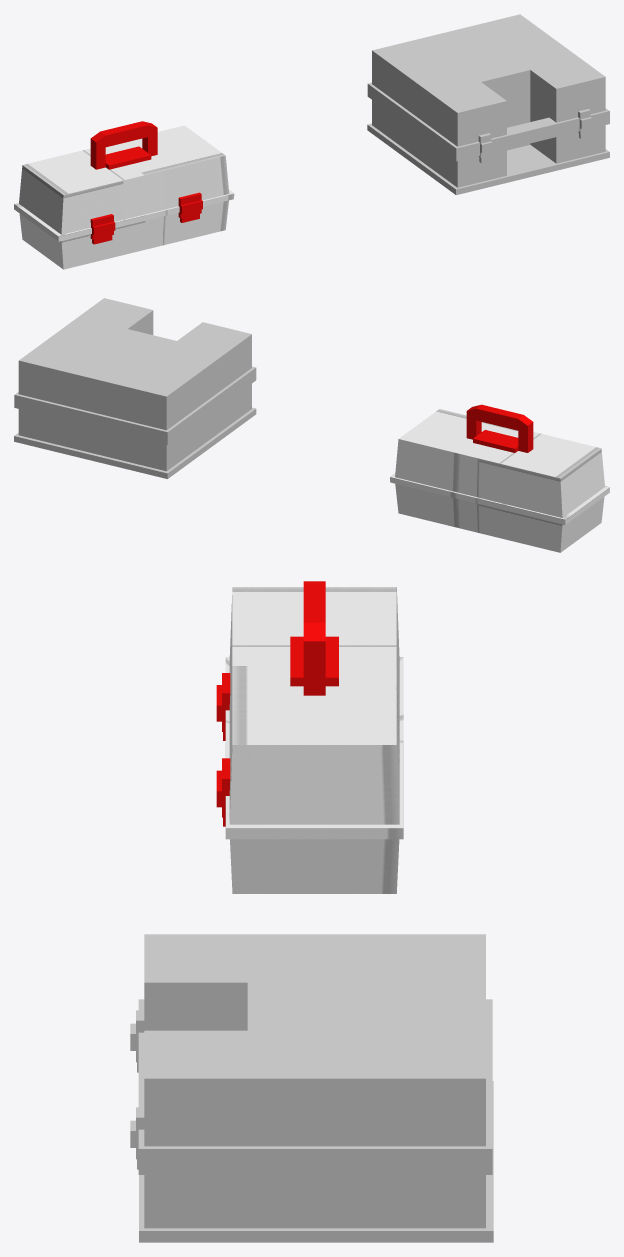
Rendered from Aplicado_KitDePrimeirosSocorros.untitled.fbx.
3 renders of one model, top to bottom at view 1: azimuth 30°, elevation 25°; view 2: azimuth 150°, elevation 25°; view 3: azimuth 270°, elevation 25°, orthographic. The views are drawn at different scales.
Parts seen in each view (by area): view 1: KitMedico, AO; view 2: KitMedico, AO; view 3: KitMedico, AO.
Part boxes in pixels (x1,y1,x2,y2): KitMedico: [367, 14, 609, 195]; AO: [14, 121, 234, 269]; KitMedico: [14, 298, 256, 478]; AO: [390, 404, 609, 552]; KitMedico: [130, 934, 493, 1242]; AO: [216, 581, 403, 893].
Size of the model in its own units: 77.83 by 14.95 by 23.15.
